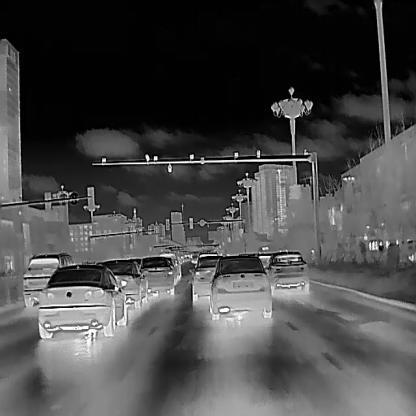car: (36, 263, 127, 338), (207, 253, 271, 319), (21, 253, 73, 308), (101, 257, 147, 307), (265, 251, 308, 293), (140, 254, 176, 296), (189, 255, 219, 303), (159, 251, 181, 285), (255, 253, 274, 276)
